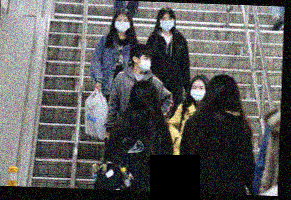with_mask: (158, 13, 175, 32), (113, 15, 131, 32), (189, 83, 206, 101), (137, 53, 151, 72)
